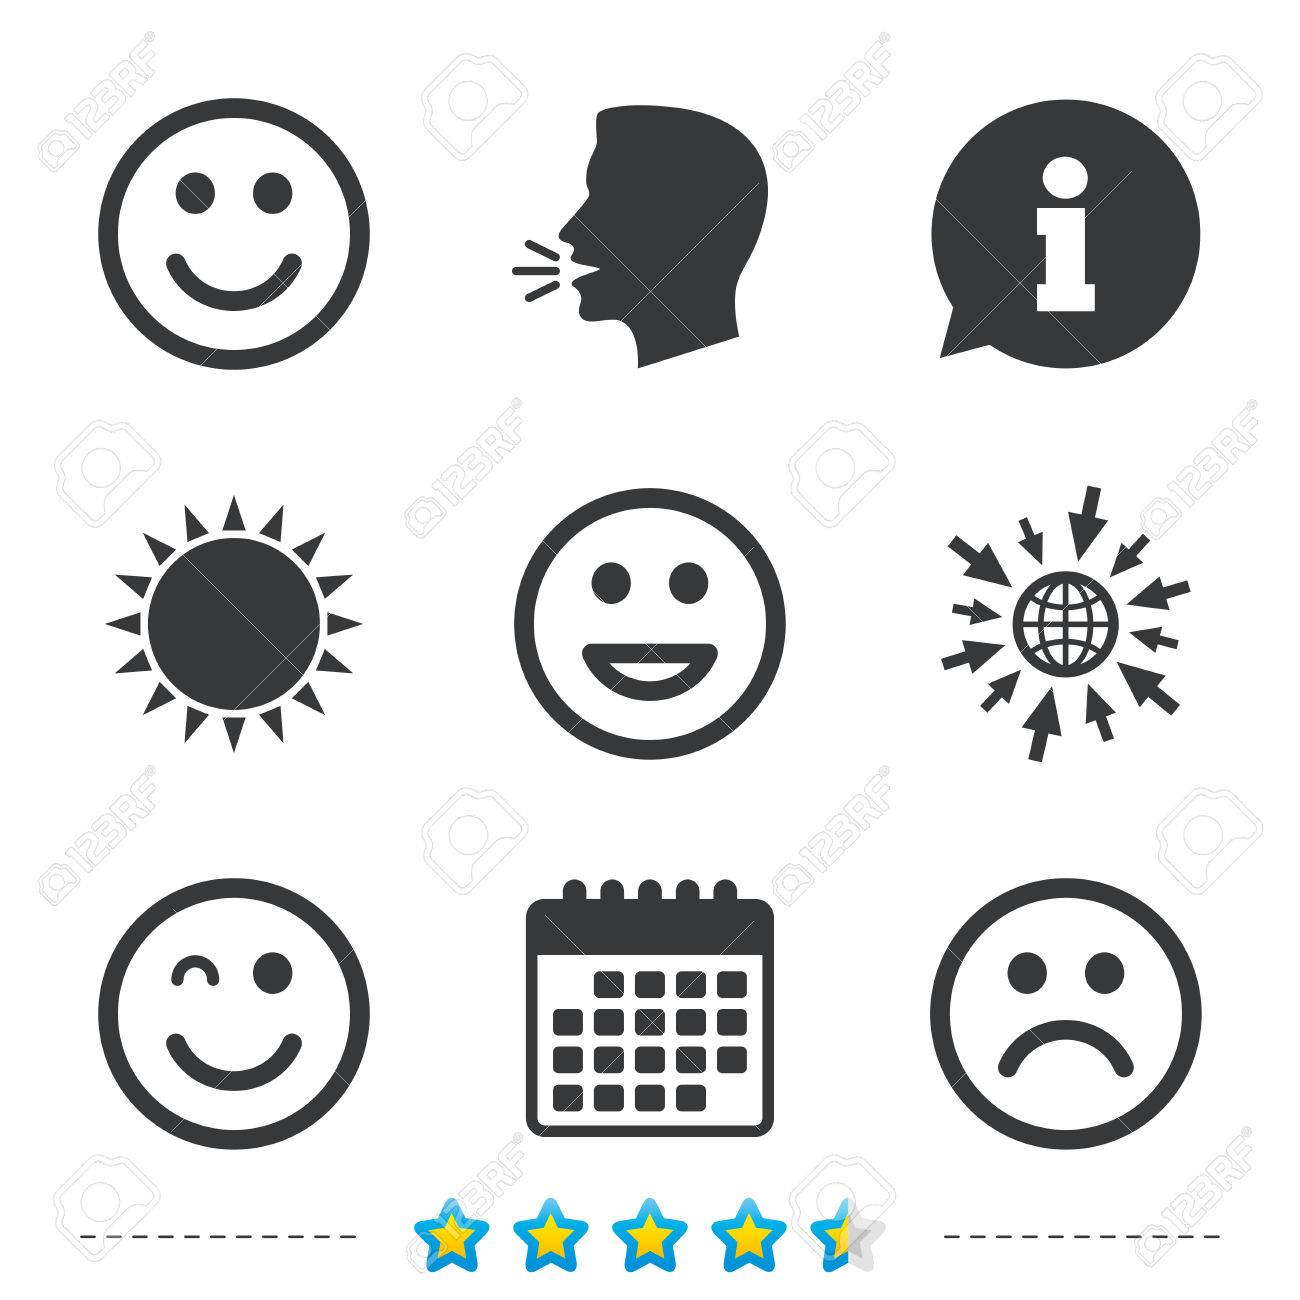triste: (935, 854, 1215, 1150), (989, 946, 1143, 1092)
